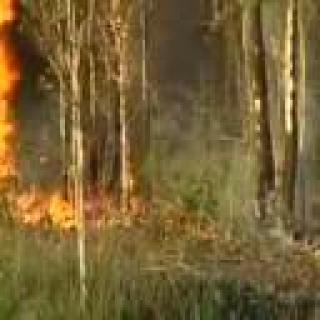fire: (0, 0, 52, 182), (4, 187, 103, 236)
